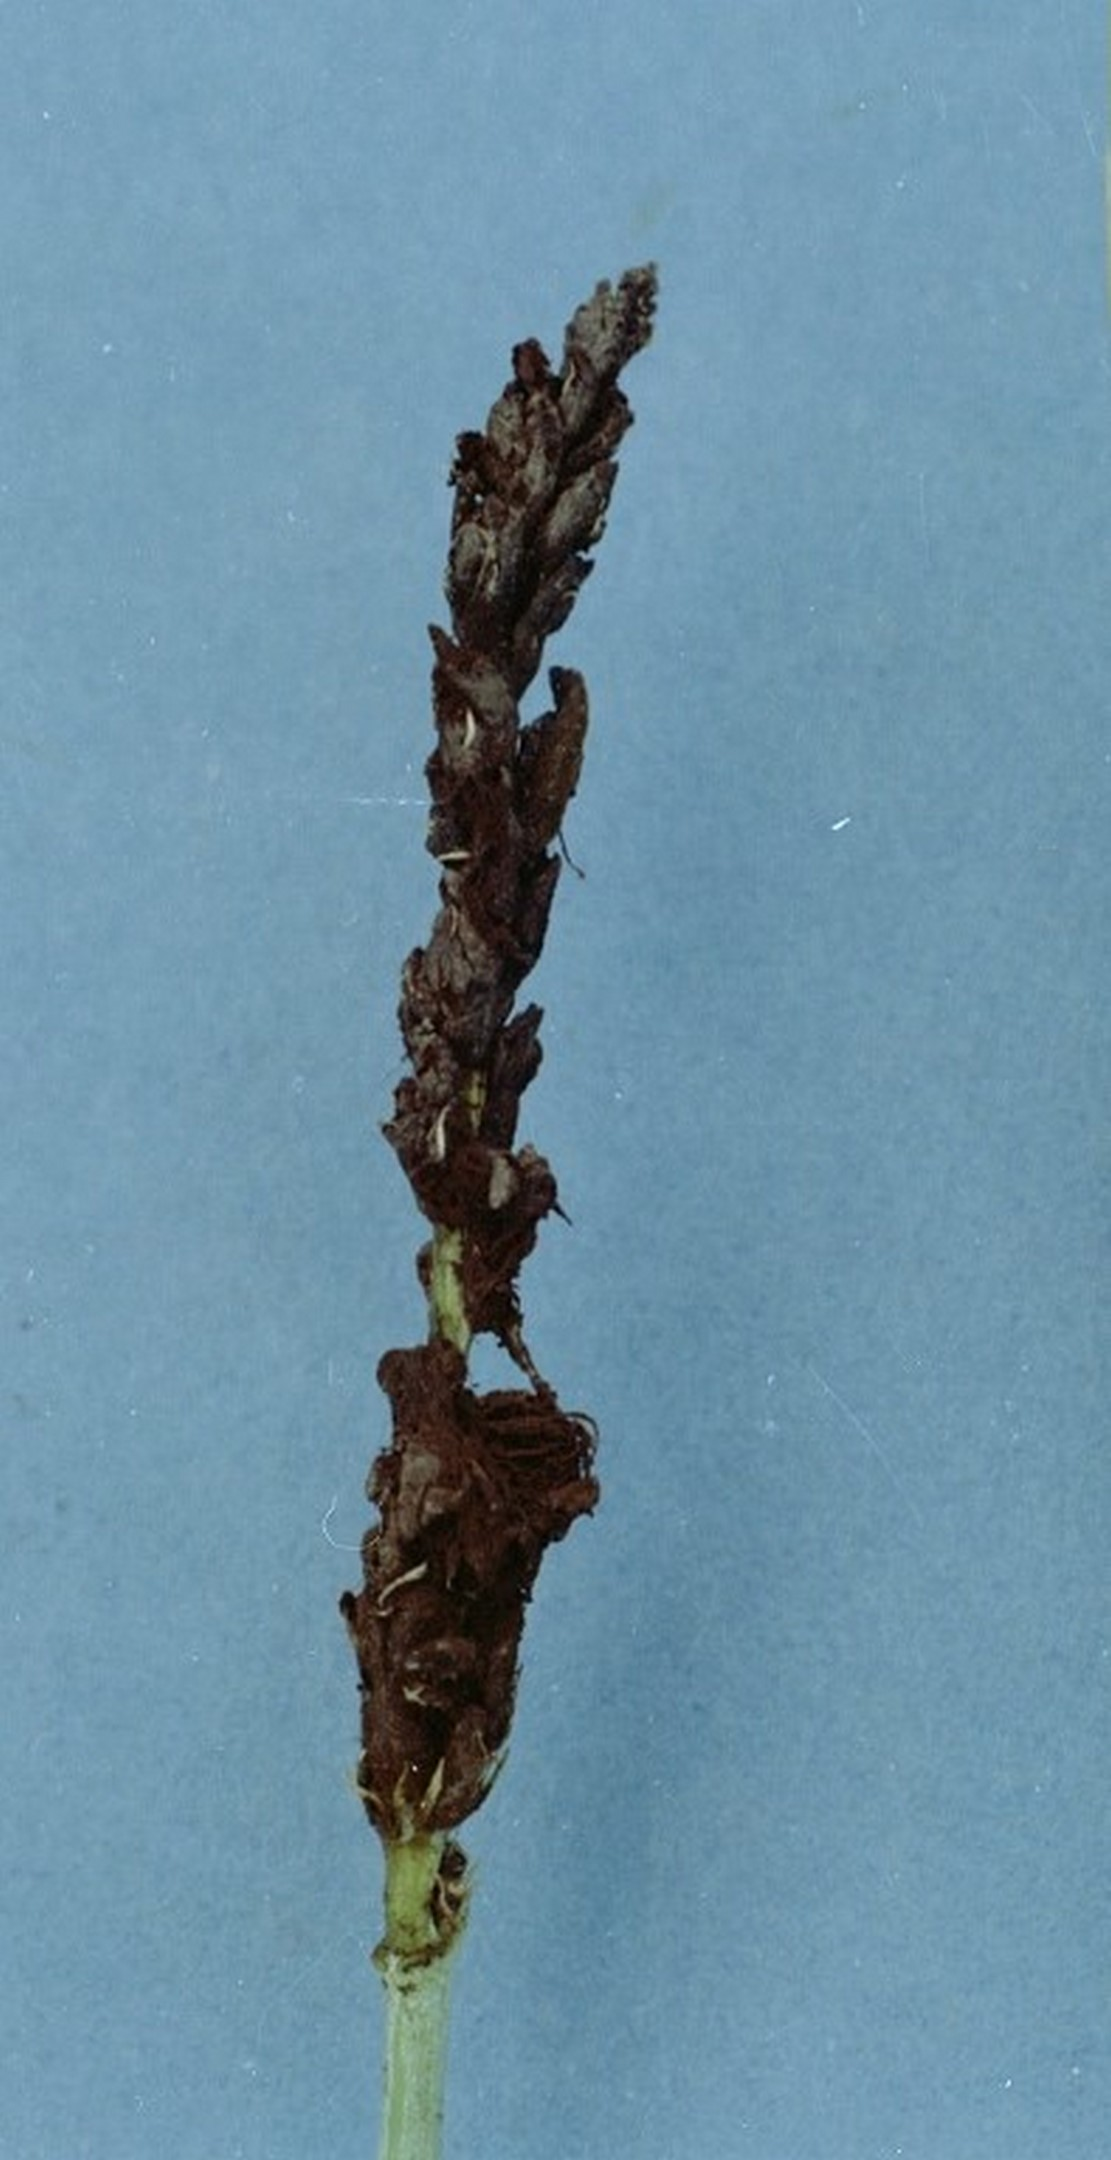Wheat Loose Smut: (276, 242, 642, 1926)
